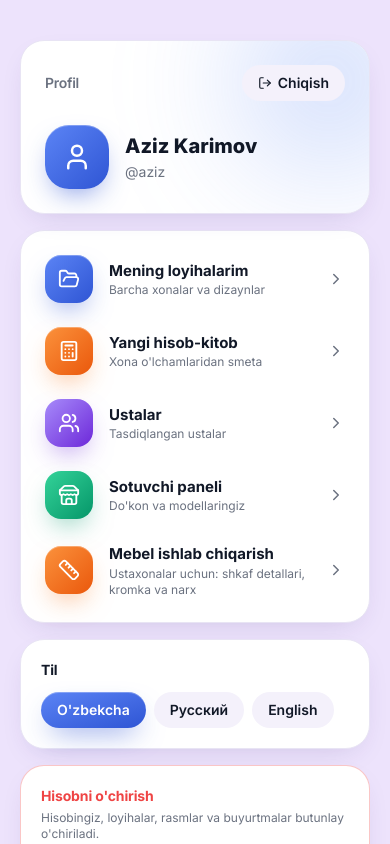
ProfilePage language section › switches the open page to Russian without a reload and saves the choice
The width and height of the screenshot is (390, 844).
Click the button "Русский".
click(199, 710)  # box [154,692,244,728]
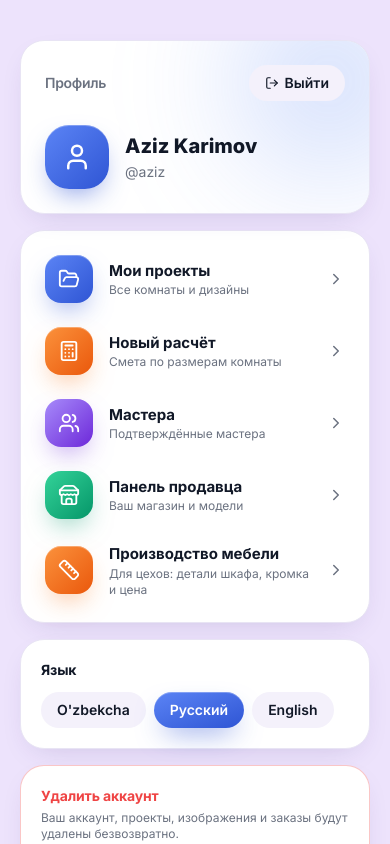
Expected: the heading "Язык" is shown, [41,660,76,678]
Expected: the button "Выйти" is shown, [249,65,345,101]
Expected: the heading "Til" is gone
